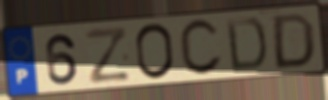6: (43, 32, 80, 87)
C: (177, 17, 225, 79)
D: (272, 11, 317, 71), (224, 16, 269, 74)
O: (133, 22, 177, 82)
Z: (83, 25, 133, 87)
